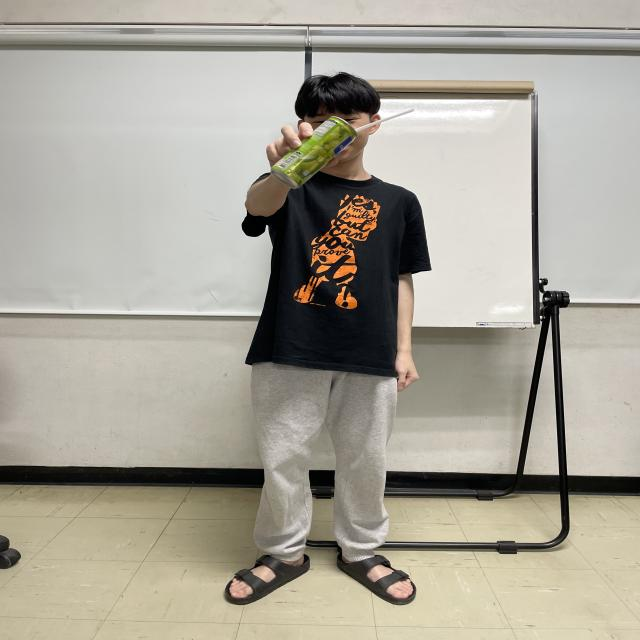can: (267, 114, 358, 189)
